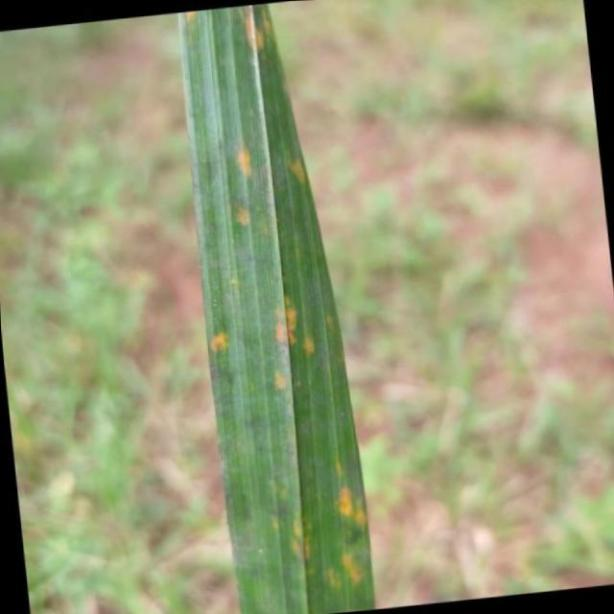Kalium: (174, 5, 376, 614)
